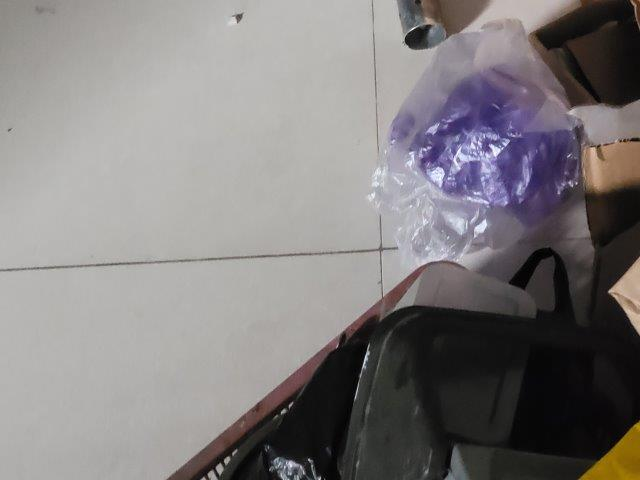plastik: (362, 21, 589, 268)
